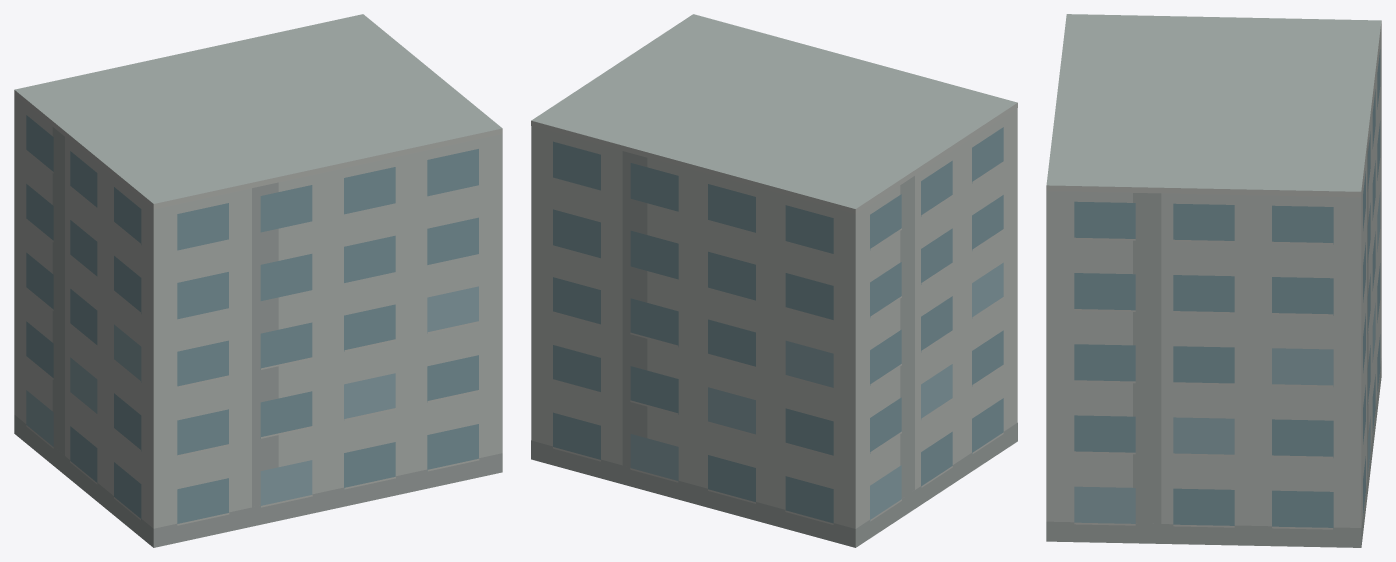
Rendered from survey-upis-32499337.glb.
3 renders of one model, left to right at view 1: azimuth 30°, elevation 25°; view 2: azimuth 150°, elevation 25°; view 3: azimuth 270°, elevation 25°, orthographic. The views are drawn at different scales.
Visible parts, largest first — view 1: survey-upis-32499337.tmp; view 2: survey-upis-32499337.tmp; view 3: survey-upis-32499337.tmp.
Boxes of the visible parts, bbox=[...] form: survey-upis-32499337.tmp: bbox=[14, 14, 502, 547]; survey-upis-32499337.tmp: bbox=[531, 14, 1017, 547]; survey-upis-32499337.tmp: bbox=[1046, 14, 1381, 547].
Bounding box in the file's own units: 16.34 × 15.25 × 13.02.
